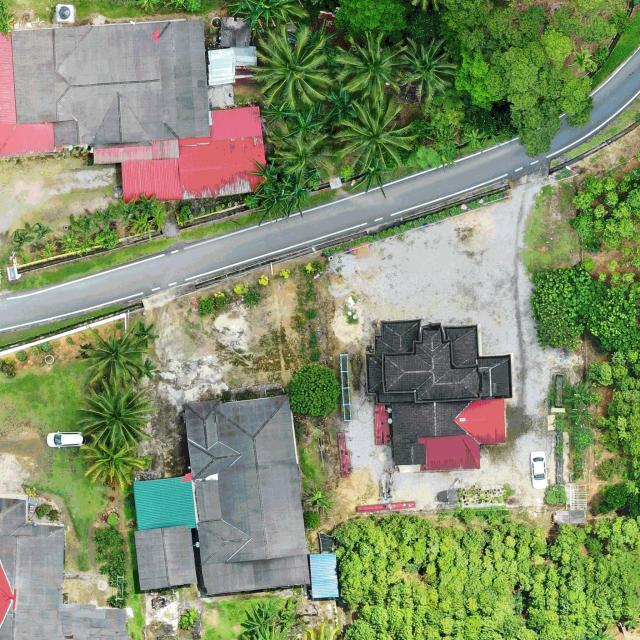Tree: (529, 264, 640, 352), (241, 22, 340, 112), (335, 94, 417, 172), (79, 376, 158, 449), (334, 29, 406, 101), (78, 433, 151, 492), (80, 326, 150, 385), (397, 36, 455, 98), (268, 126, 332, 181), (256, 172, 315, 229), (285, 362, 342, 419), (246, 160, 281, 198), (242, 606, 278, 638), (564, 379, 590, 409), (92, 224, 120, 250), (134, 320, 158, 349), (277, 598, 298, 630), (148, 203, 171, 229), (115, 198, 138, 224), (70, 212, 93, 237), (136, 193, 159, 218), (258, 600, 283, 622), (13, 228, 35, 252), (567, 405, 593, 425), (129, 214, 152, 236), (94, 205, 114, 228), (60, 232, 79, 256), (40, 240, 56, 259), (257, 274, 270, 287), (278, 268, 290, 280)
